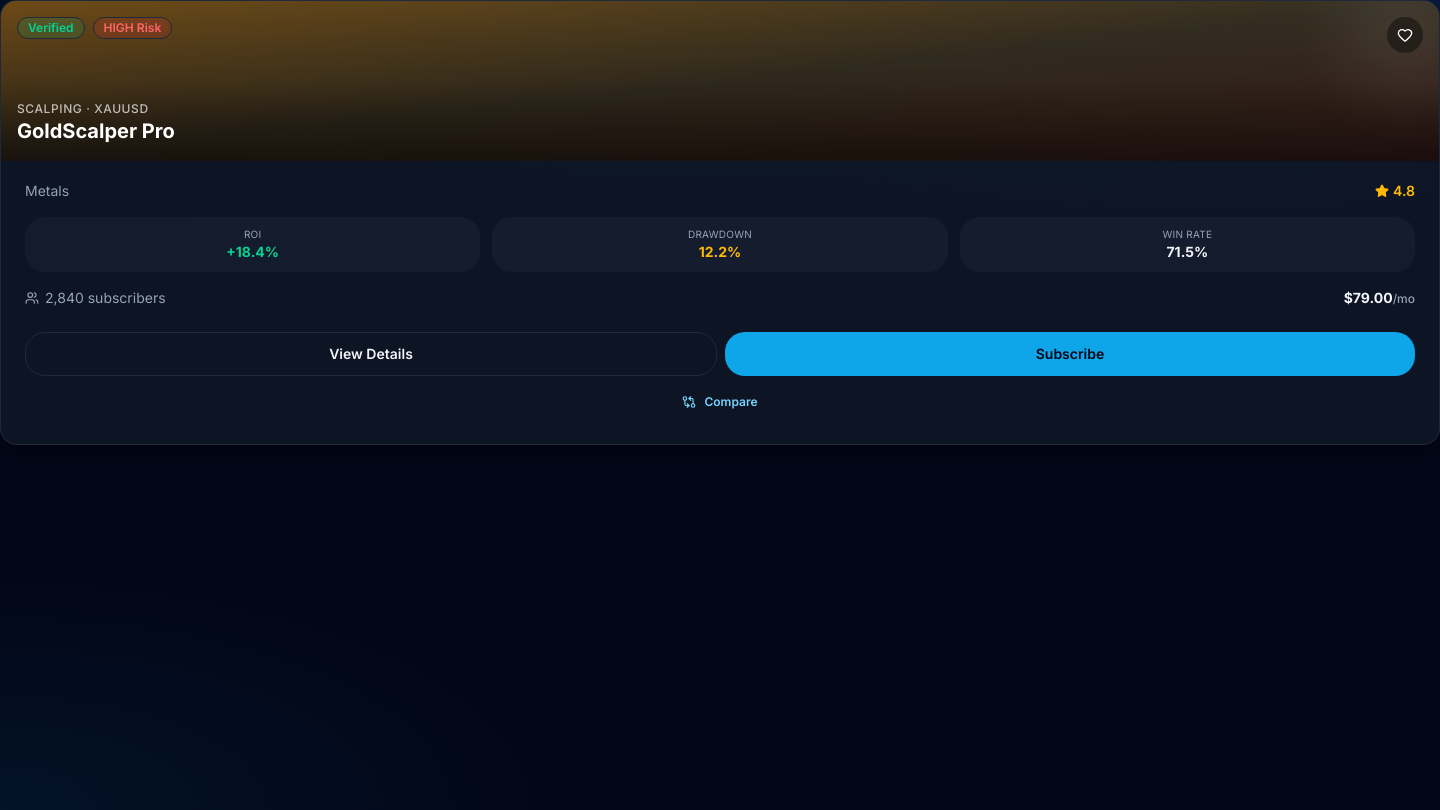
it: BotCard › toggles wishlist via the favorite button
Click the button named "add to wishlist": [1405, 35] box [1387,17,1423,53]
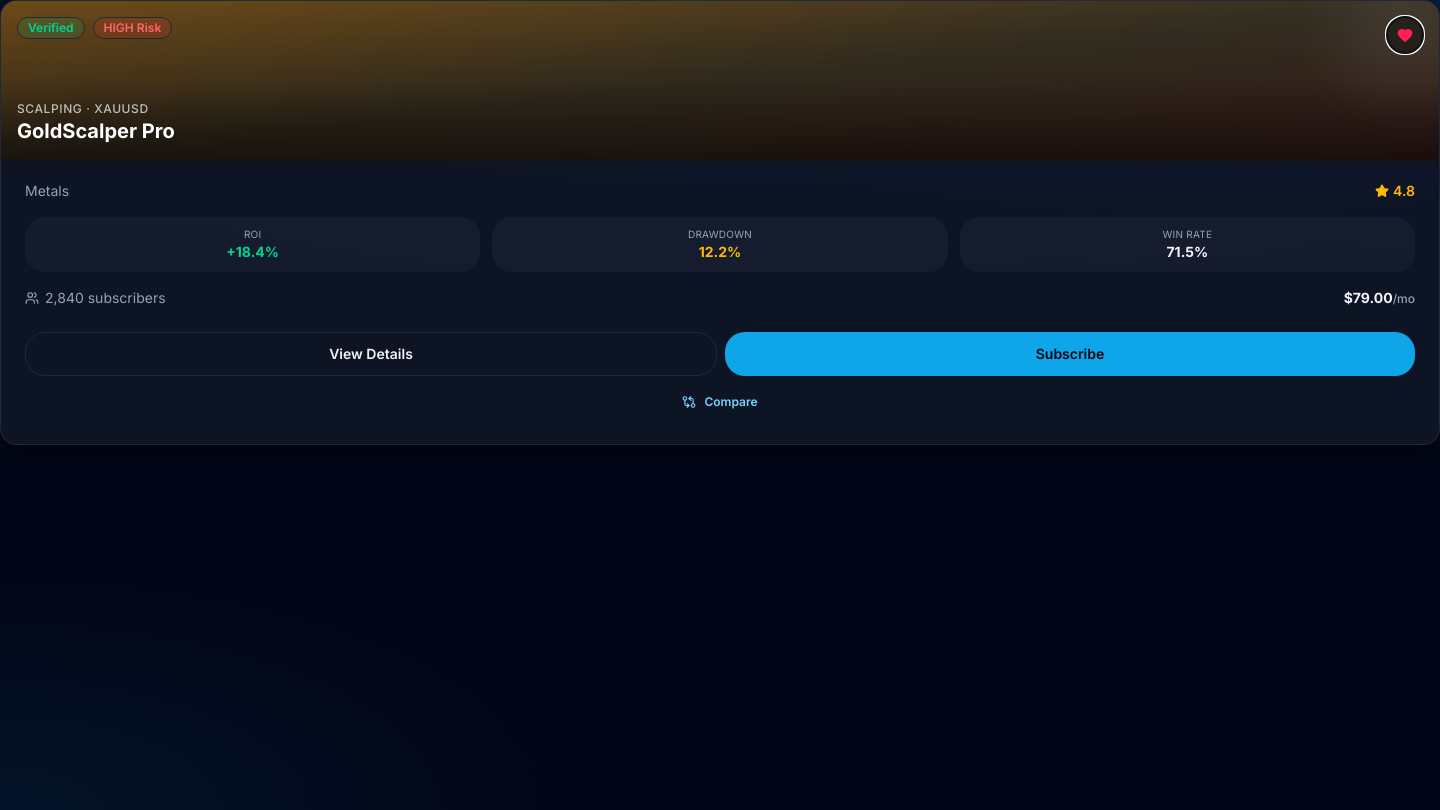
Check: the button named "remove from wishlist" is shown, box [1387,17,1423,53]
